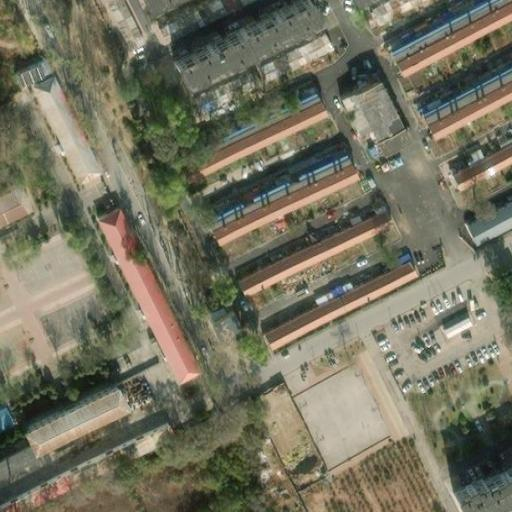building: (91, 205, 194, 378), (229, 199, 388, 299), (205, 160, 359, 258), (254, 253, 413, 346), (175, 98, 325, 192), (387, 0, 512, 75), (26, 74, 96, 186), (20, 384, 125, 452), (418, 75, 512, 138), (442, 126, 512, 182), (337, 76, 399, 139), (453, 182, 512, 244), (447, 457, 512, 510), (253, 32, 324, 78), (190, 66, 256, 110), (206, 302, 243, 341), (434, 310, 468, 337), (0, 185, 24, 219), (0, 404, 16, 432)
